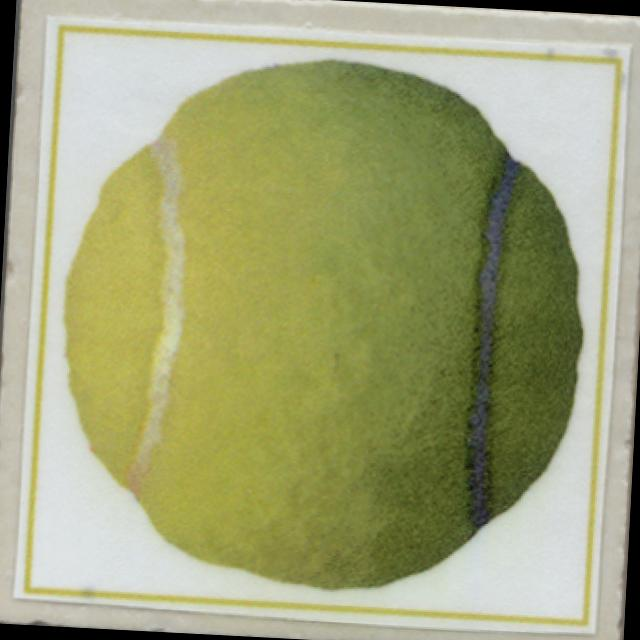Tennis Ball: (60, 60, 582, 589)
